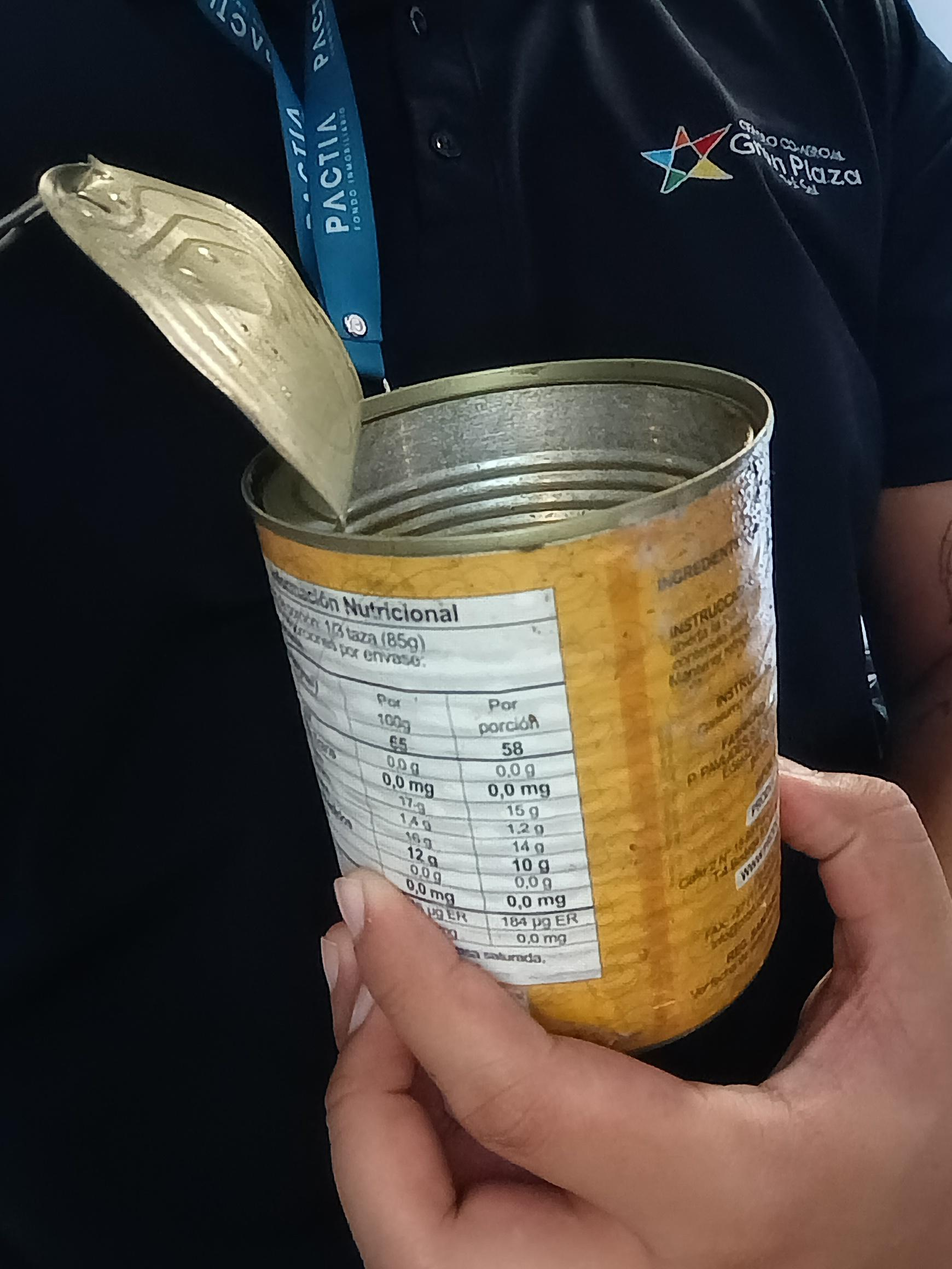Metal: (5, 154, 779, 1051)
